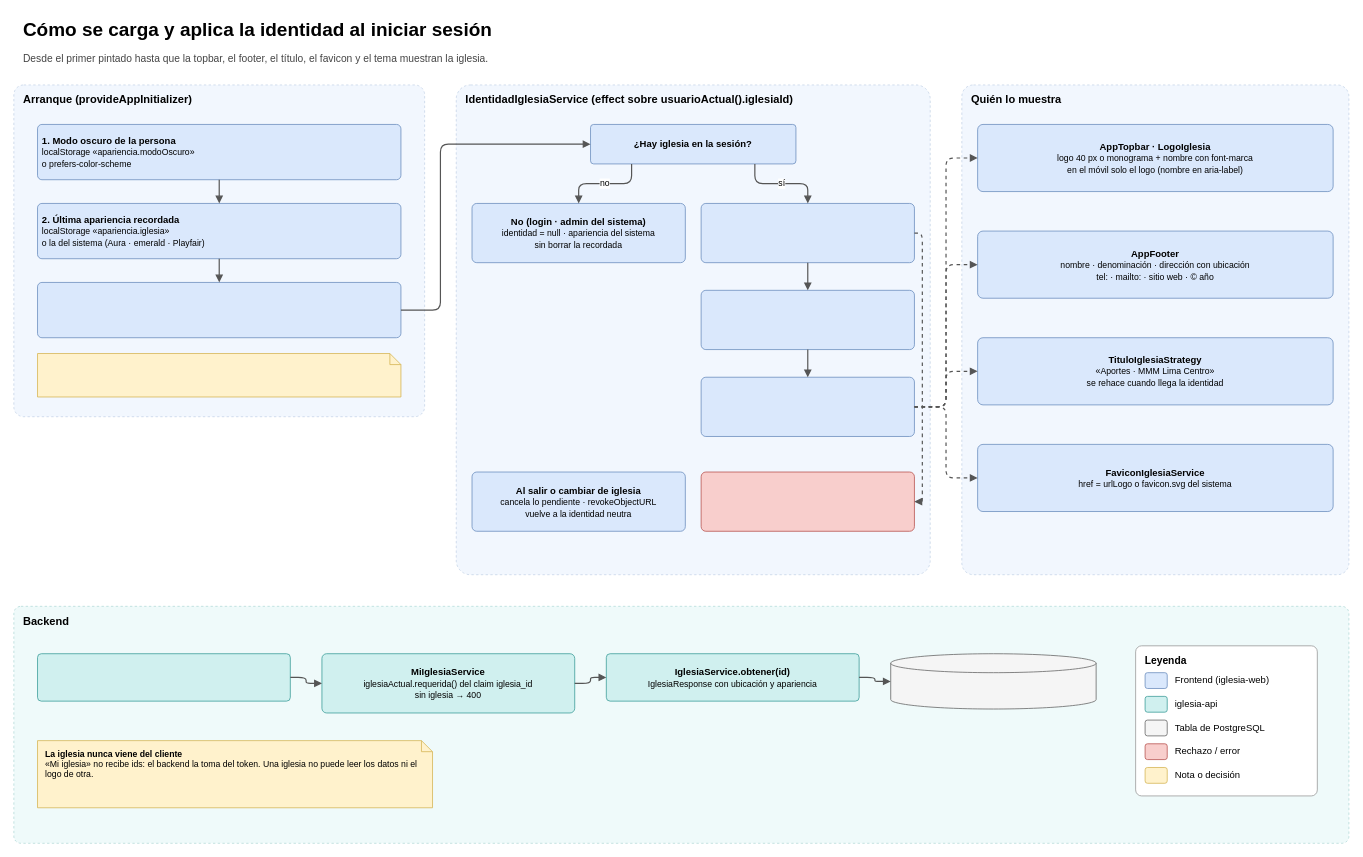
Image size: 1363x857. Some labels were removed from this diagram. The shapes that lost their labels are listed below. From the top down, each one's centre as x and y in pixels, then its label:
the point at 807,233: 1. GET /api/mi-iglesia cargando = true → esqueleto en la topbar
the point at 219,310: 3. Restaurar la sesión cookie de refresco → token con iglesia_id
the point at 807,320: 2. aplicar(apariencia) tema + fuente + guardar en localStorage
the point at 219,375: El usuario ve su tema desde el primer pintado aunque el backend tarde.
the point at 807,406: 3. ¿tieneLogo? sí: GET /logo como Blob (lleva el token) → URL.createObjectURL
the point at 807,501: Si falla sigue con la identidad neutra (el toast global avisa los 5xx)
the point at 163,677: MiIglesiaController.obtener() @PreAuthorize("isAuthenticated()")
the point at 993,681: iglesia una fila por iglesia (catálogo)
